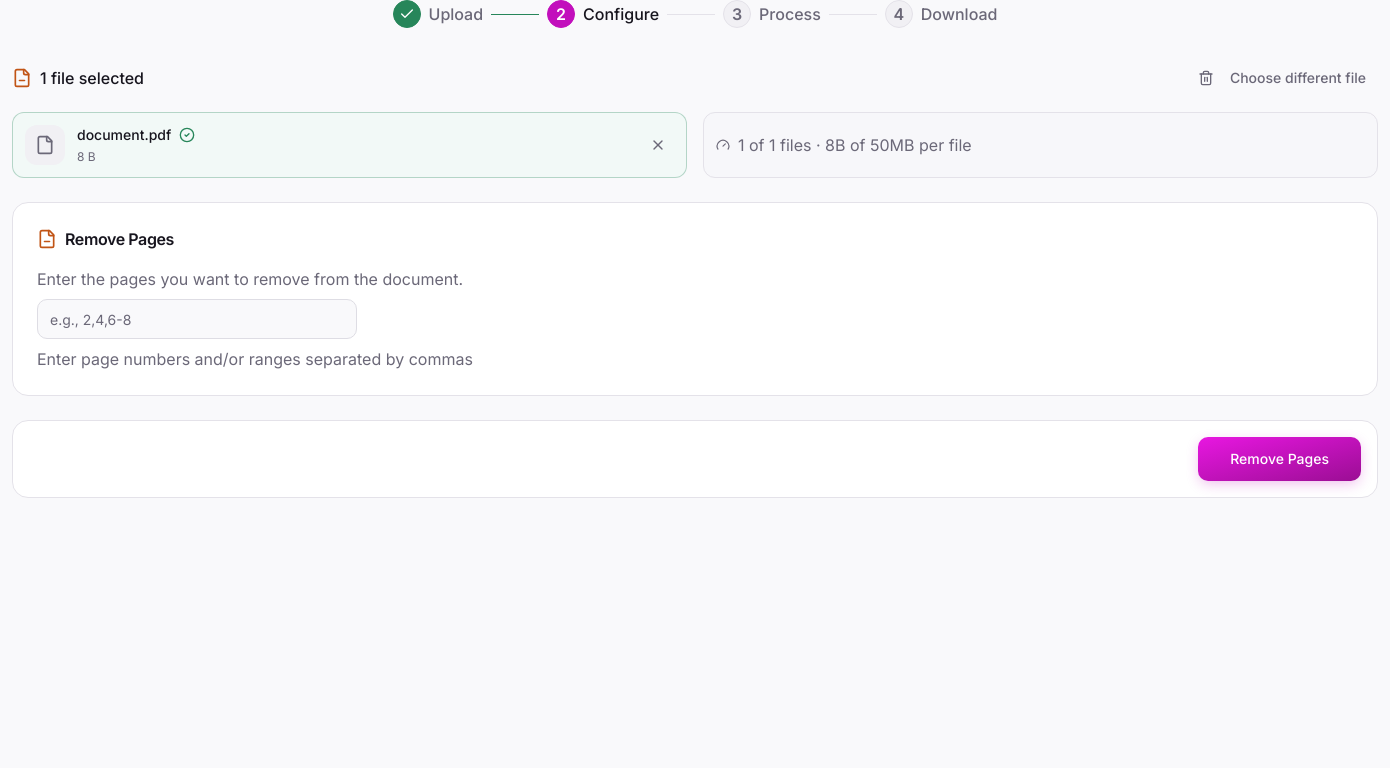
Test case: ToolWorkbench — page selection validation › blocks submit and shows a validation error when pages are empty
Click the button "Remove Pages": (1280,459) [1198,437,1361,481]
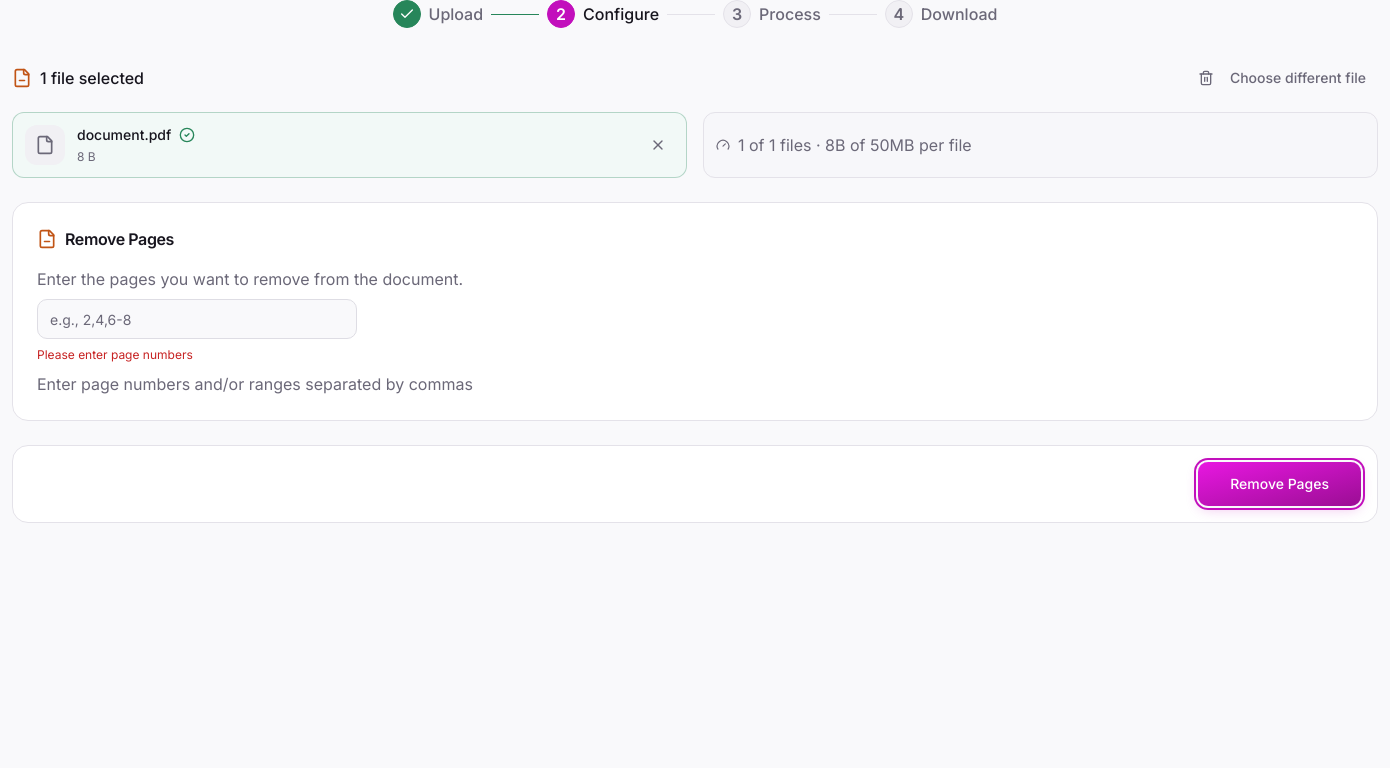
Check: the text "Please enter page numbers" is shown, box [37,347,193,362]
